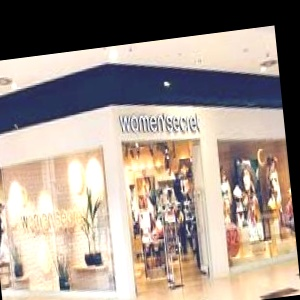women_secret: (136, 58, 272, 138)
